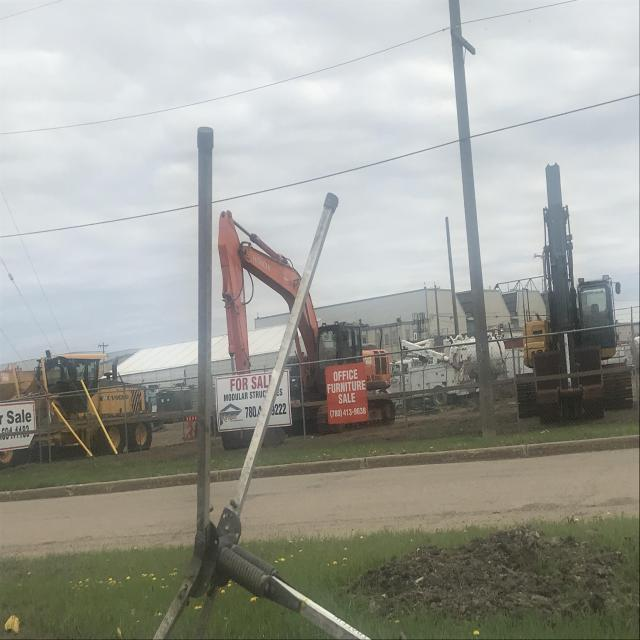buldozerpayloadergrader: (6, 351, 150, 456)
excavator: (213, 212, 400, 435), (506, 154, 636, 426)
